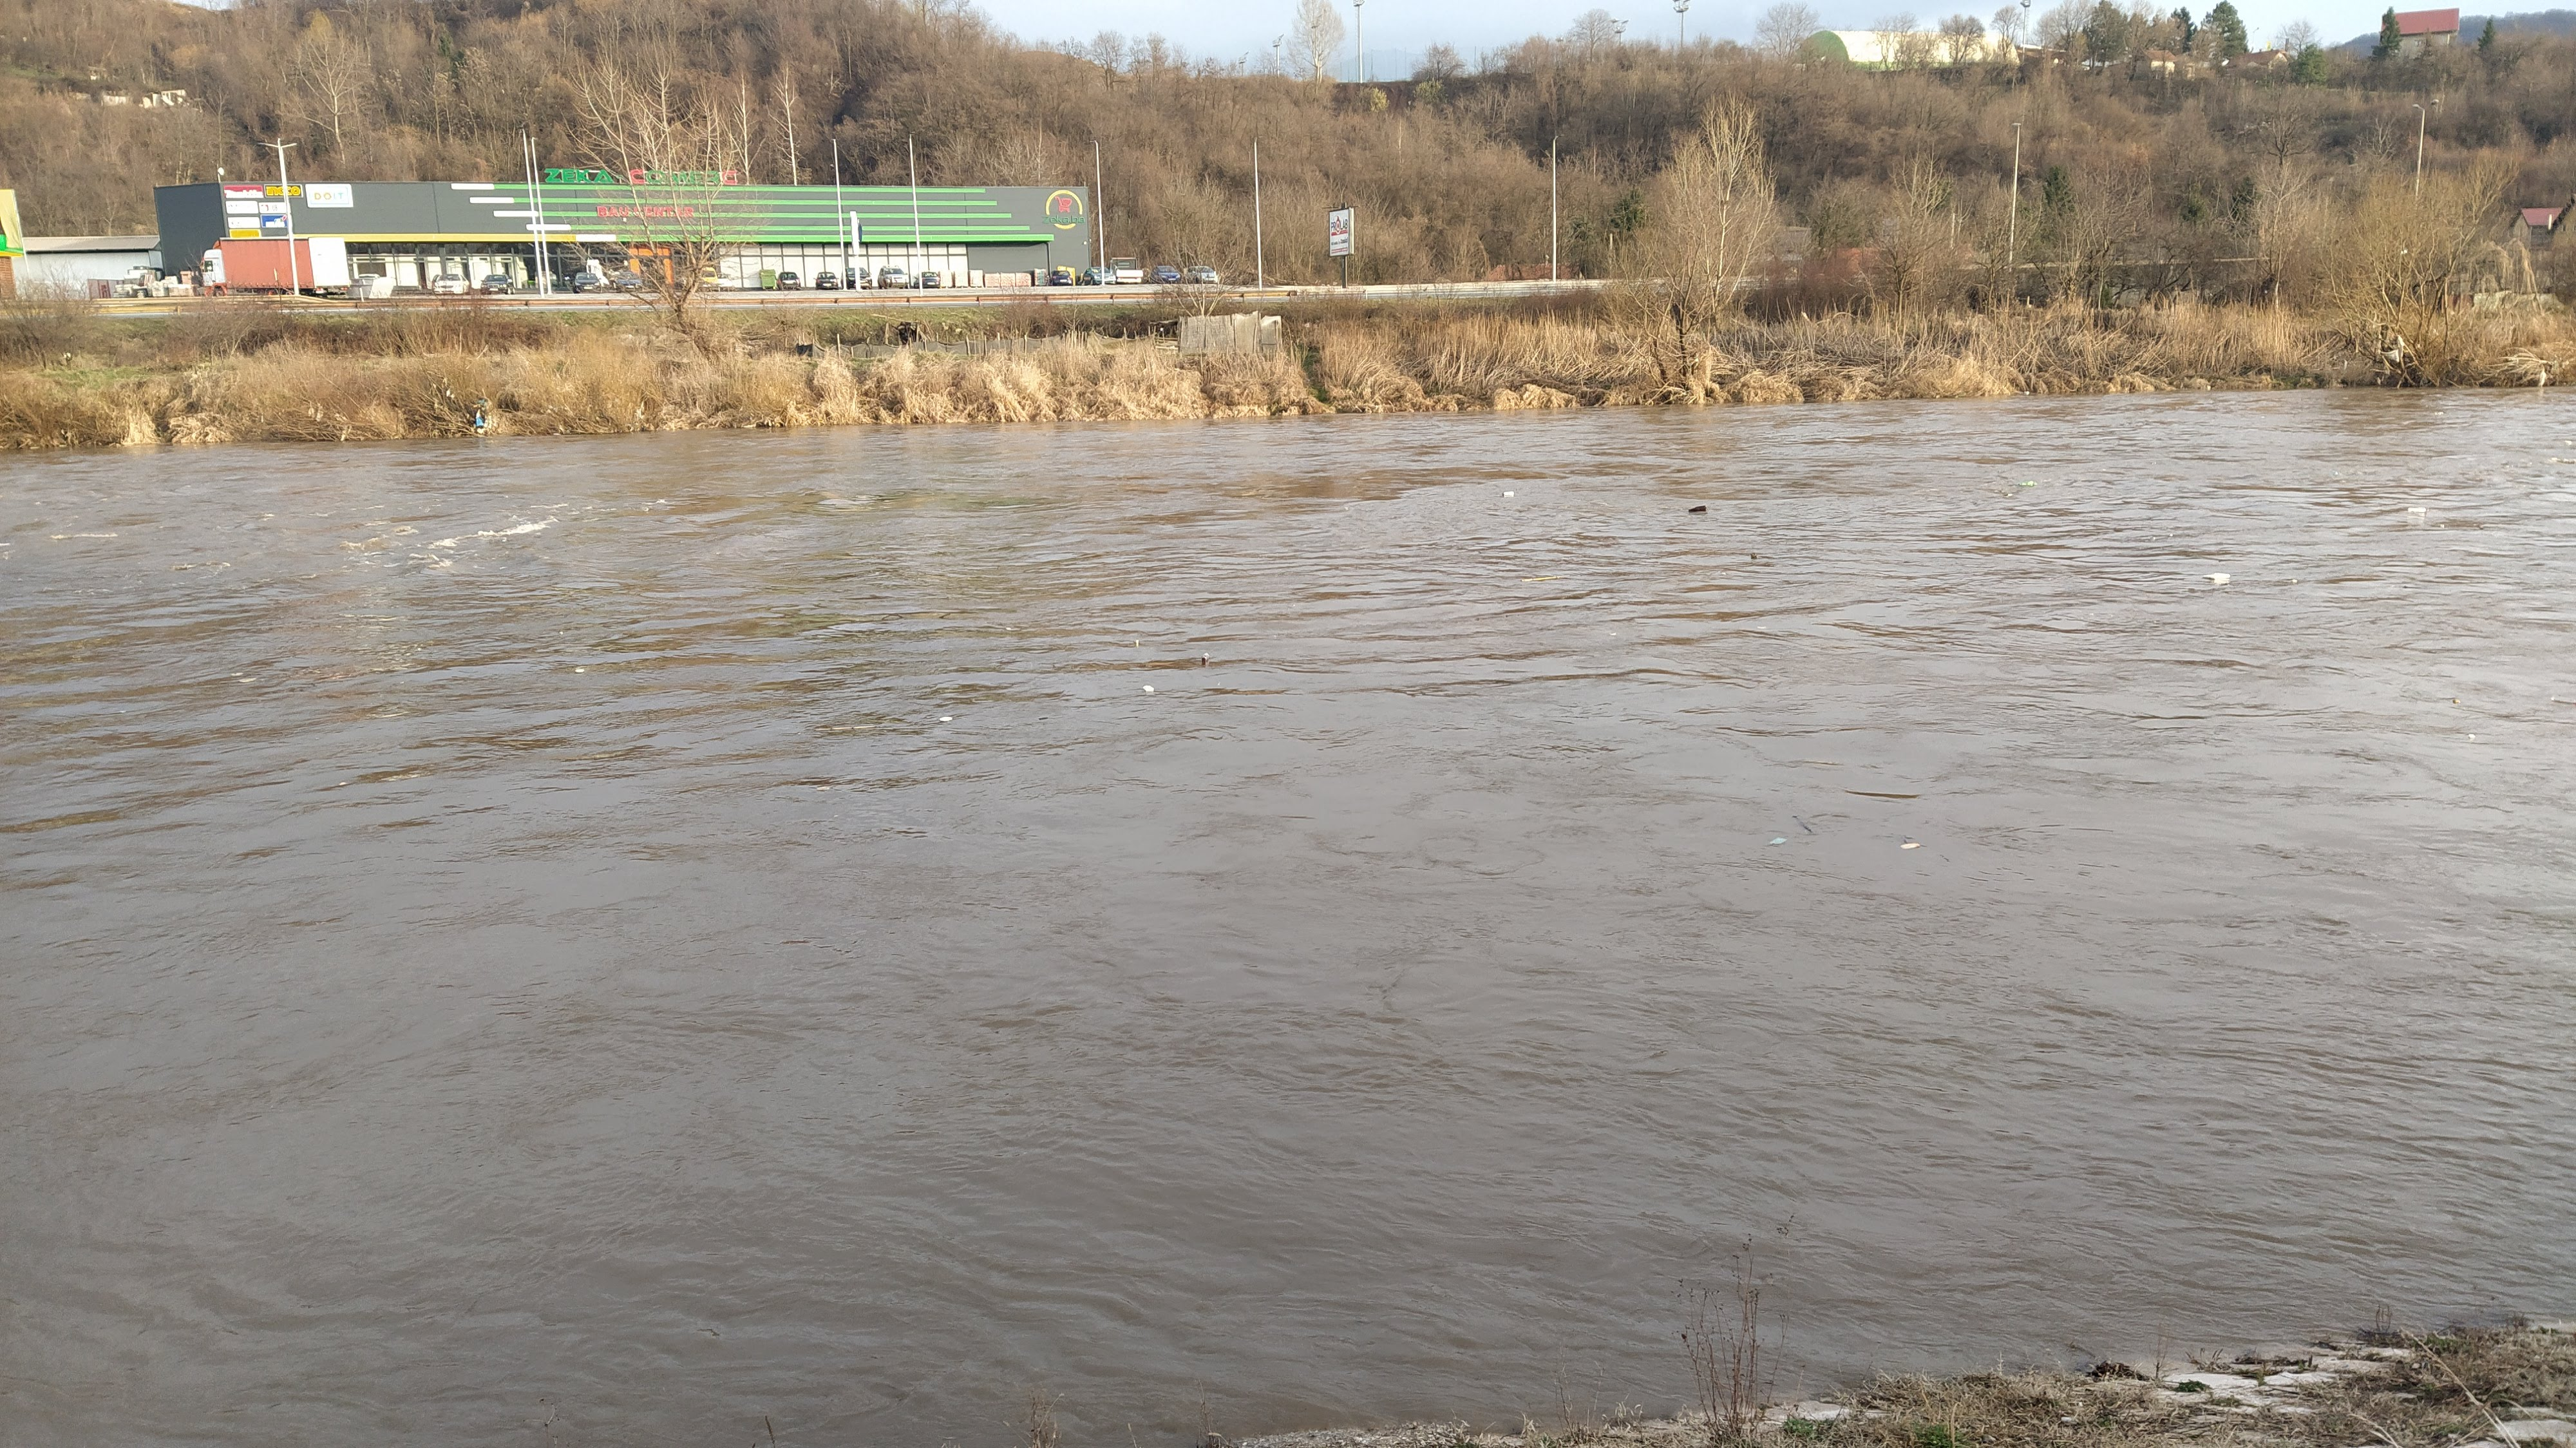Plastic Bottle: (2551, 696, 2576, 705), (1900, 841, 1920, 850), (1688, 504, 1706, 512), (2406, 506, 2427, 512), (1769, 837, 1785, 844), (2017, 480, 2036, 485), (939, 715, 954, 722), (1143, 683, 1154, 692), (1502, 490, 1514, 496), (1201, 653, 1208, 660), (2452, 697, 2459, 703), (575, 669, 584, 673), (1752, 552, 1757, 558), (2468, 733, 2475, 736)
